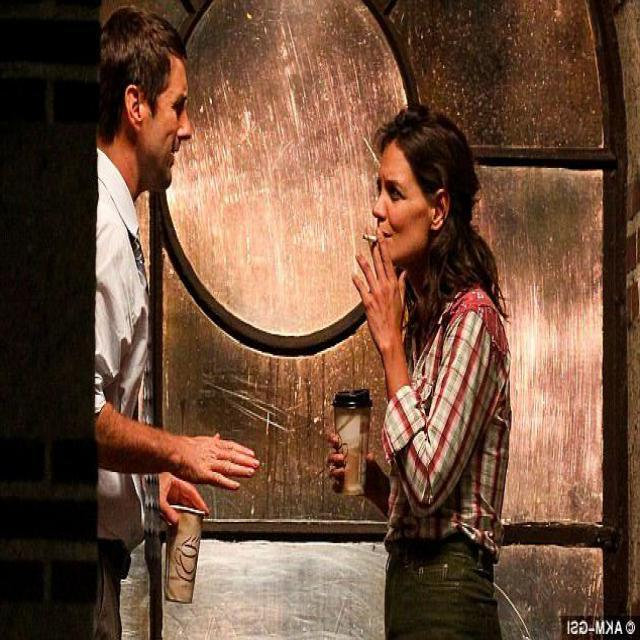cigarette: (352, 223, 389, 248)
